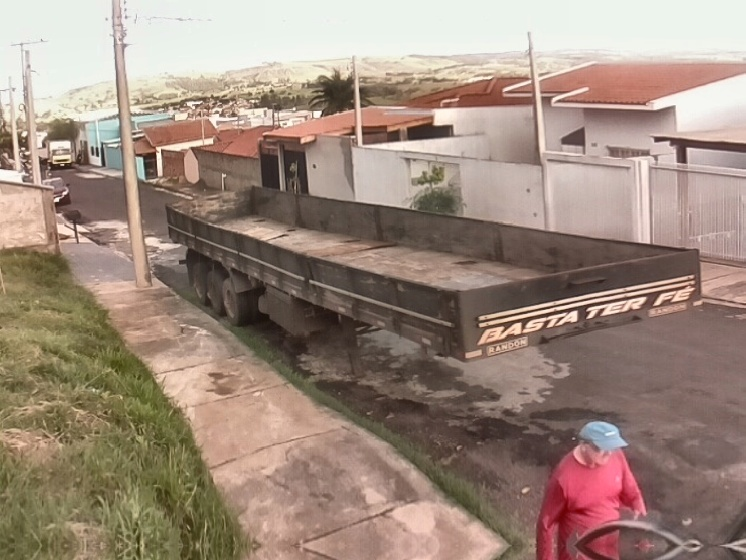person: (532, 421, 651, 560)
